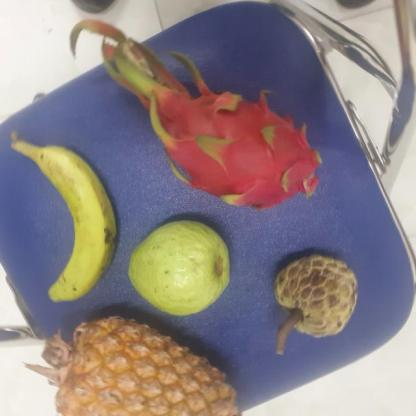annona: (274, 254, 362, 338)
banana: (29, 143, 119, 304)
guava: (126, 218, 233, 322)
pineapple: (58, 312, 247, 416)
pitaya: (150, 83, 328, 211)
